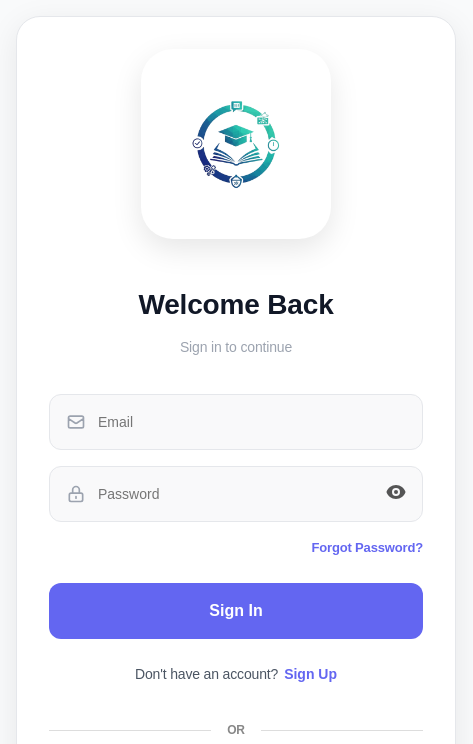
Test: AuthPage › switches to sign up form
Click the button "Sign Up" at (311, 674), box [284,663,337,685]
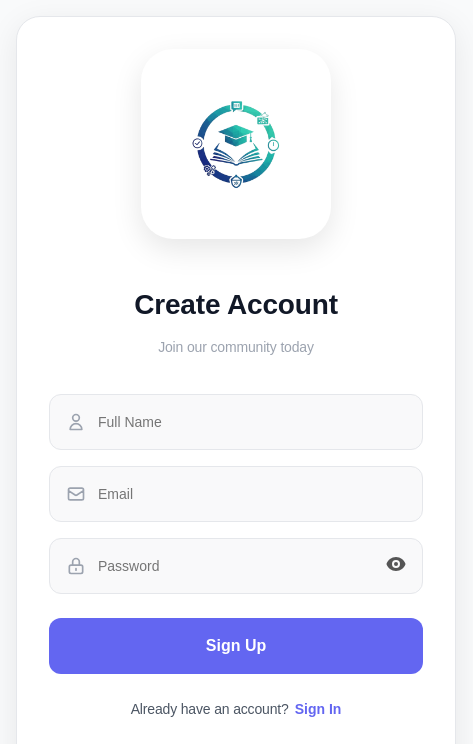
Check: the heading "Create Account" is shown, box [134,289,338,320]
Check: the field with placeholder "Full Name" is shown, box [98,395,406,449]
